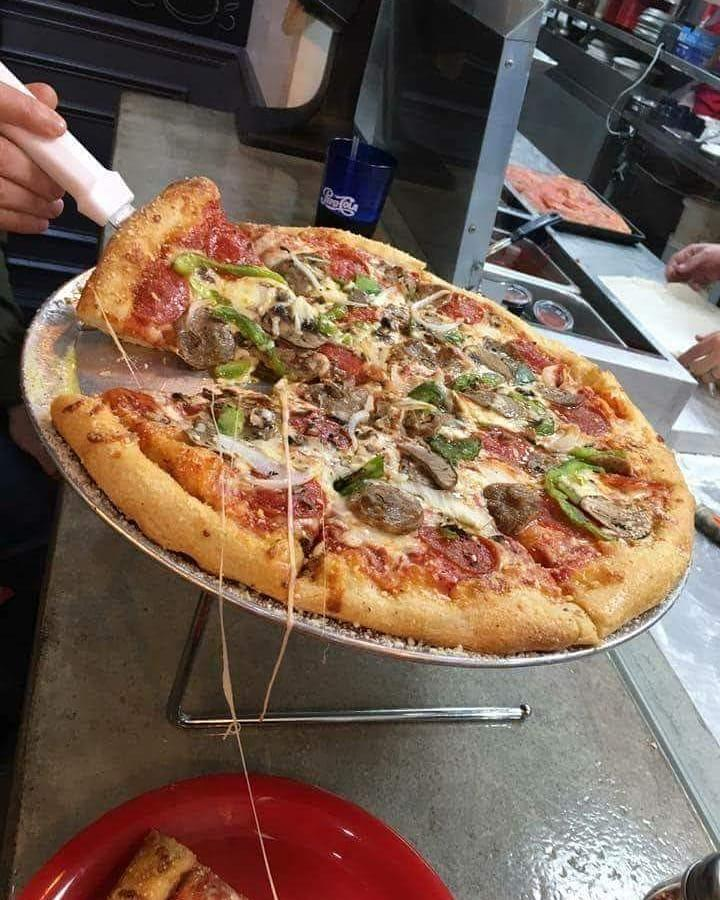Mushroom: (166, 310, 235, 366), (352, 481, 419, 531), (395, 439, 460, 490), (583, 497, 652, 538), (459, 389, 522, 419), (269, 311, 326, 341), (463, 345, 513, 377)
Pepperoni: (419, 526, 500, 570), (133, 264, 187, 321), (254, 474, 326, 513), (472, 423, 531, 461), (207, 226, 257, 269), (297, 414, 354, 447), (554, 402, 606, 435), (508, 340, 562, 369), (327, 247, 373, 281), (327, 342, 365, 378), (439, 293, 482, 321)
Peppers: (175, 252, 290, 285), (191, 283, 258, 327), (542, 456, 583, 527), (516, 388, 554, 433), (335, 457, 382, 492), (431, 435, 477, 458), (413, 384, 447, 410), (219, 405, 244, 437), (453, 371, 501, 387), (213, 358, 255, 376), (358, 274, 381, 293)
Pizza: (69, 186, 695, 646)
